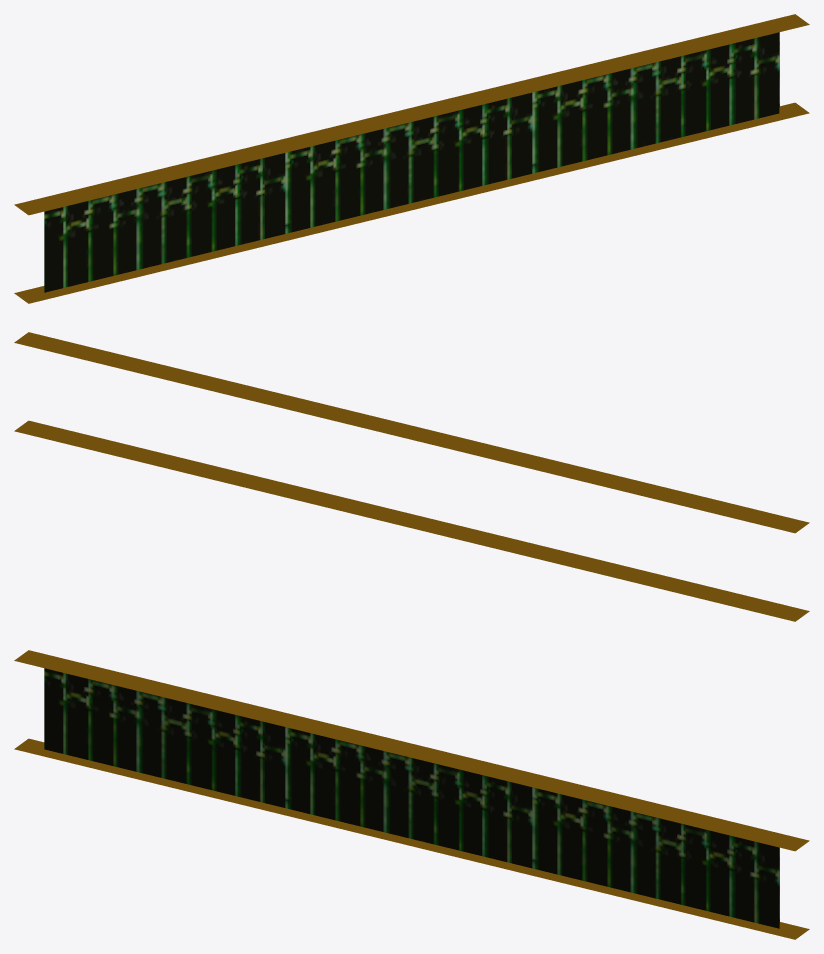
Rendered from Geländer3 [GrünesMetall]_1683.glb.
3 views of the same model, one above another, from view 1: azimuth 30°, elevation 25°; view 2: azimuth 150°, elevation 25°; view 3: azimuth 330°, elevation 25° (orthographic).
Visible parts, largest first — view 1: pPlaneShape223, pPlaneShape224, pPlaneShape225; view 2: pPlaneShape224, pPlaneShape225; view 3: pPlaneShape223, pPlaneShape224, pPlaneShape225.
Part boxes in pixels (x1,y1,x2,y2): pPlaneShape223: [44, 32, 779, 292]; pPlaneShape224: [14, 14, 809, 215]; pPlaneShape225: [14, 102, 809, 303]; pPlaneShape224: [14, 332, 809, 533]; pPlaneShape225: [14, 420, 809, 621]; pPlaneShape223: [44, 668, 779, 928]; pPlaneShape224: [14, 650, 809, 851]; pPlaneShape225: [14, 738, 809, 939].
Size of the model in its own units: 0.75 by 0.0811 by 0.0243.
Materials: 3 (1 with a texture image).
